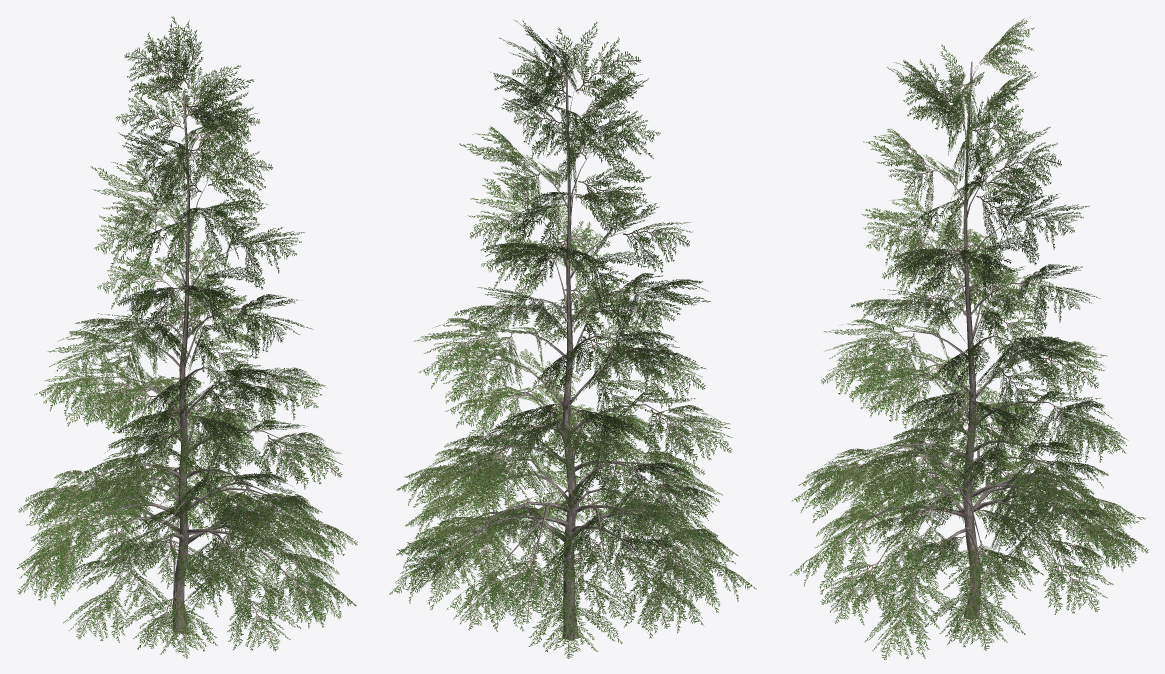
File: arbo_fir_tree.glb
The picture shows the model from 3 angles, left to right: view 1: azimuth 30°, elevation 25°; view 2: azimuth 150°, elevation 25°; view 3: azimuth 270°, elevation 25°; orthographic projection. The views are drawn at different scales.
Visible parts, largest first — view 1: Tree_0_Tree_0Mat_0; view 2: Tree_0_Tree_0Mat_0; view 3: Tree_0_Tree_0Mat_0.
Boxes of the visible parts, x1=… form: Tree_0_Tree_0Mat_0: x1=16, y1=16, x2=357, y2=658; Tree_0_Tree_0Mat_0: x1=389, y1=19, x2=756, y2=658; Tree_0_Tree_0Mat_0: x1=789, y1=18, x2=1148, y2=659.
Bounding box in the file's own units: 7.61 × 14 × 7.54.
2 materials, 2 textured.
